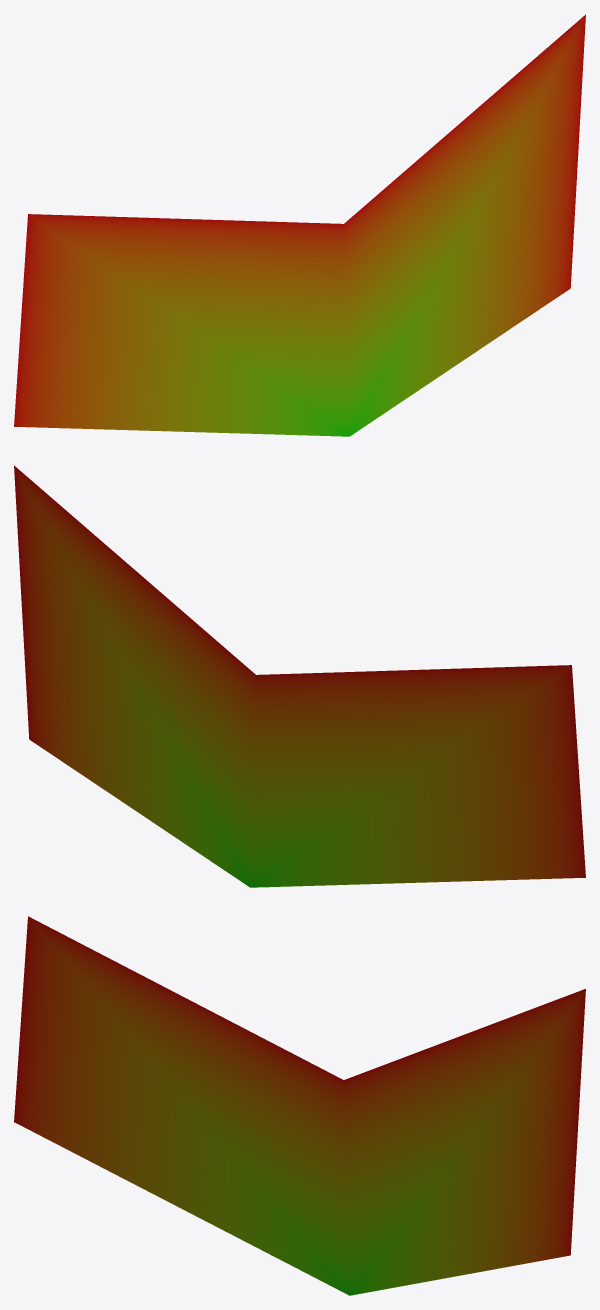
File: Var16_LOD3.fbx
3 renders of one model, top to bottom at view 1: azimuth 30°, elevation 25°; view 2: azimuth 150°, elevation 25°; view 3: azimuth 330°, elevation 25°, orthographic.
Parts seen in each view (by area): view 1: _pibi_Var16_LOD3; view 2: _pibi_Var16_LOD3; view 3: _pibi_Var16_LOD3.
Part boxes in pixels (box(x1,y1,x2,y2)): _pibi_Var16_LOD3: box(14, 14, 585, 436); _pibi_Var16_LOD3: box(14, 465, 585, 887); _pibi_Var16_LOD3: box(14, 916, 585, 1295).
Size of the model in its own units: 36.37 by 22.16 by 0.
